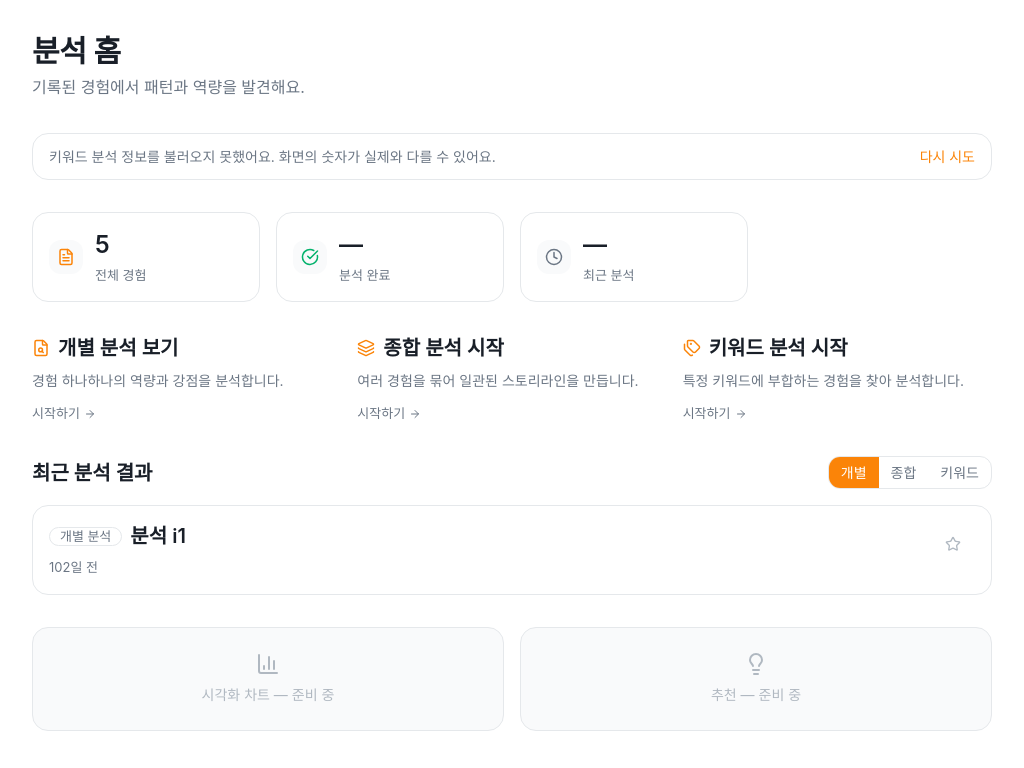
Test case: 분석 홈 — 부분 실패 안내 (FRT-169) › 다시 시도를 누르면 요약을 다시 불러온다
Click the button "다시 시도" at [947, 156], box [920, 147, 975, 166]
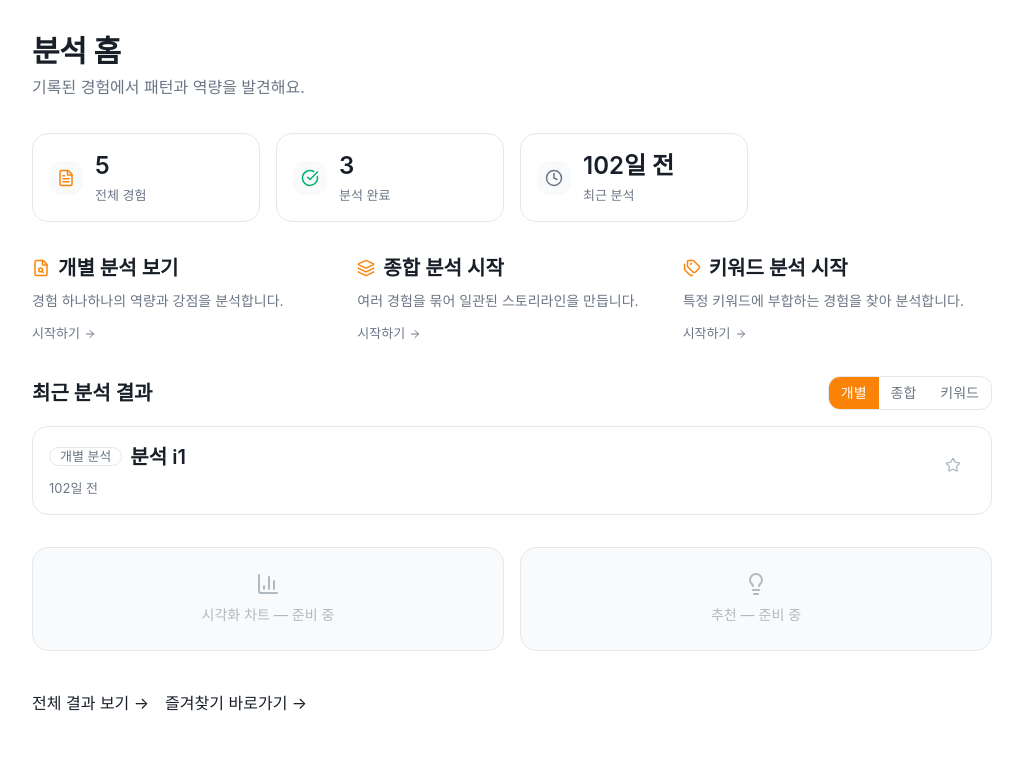
Expected: the message "키워드 분석 정보를 불러오지 못했어요. 화면의 숫자가 실제와 다를 수 있어요. 다시 시도" is gone
